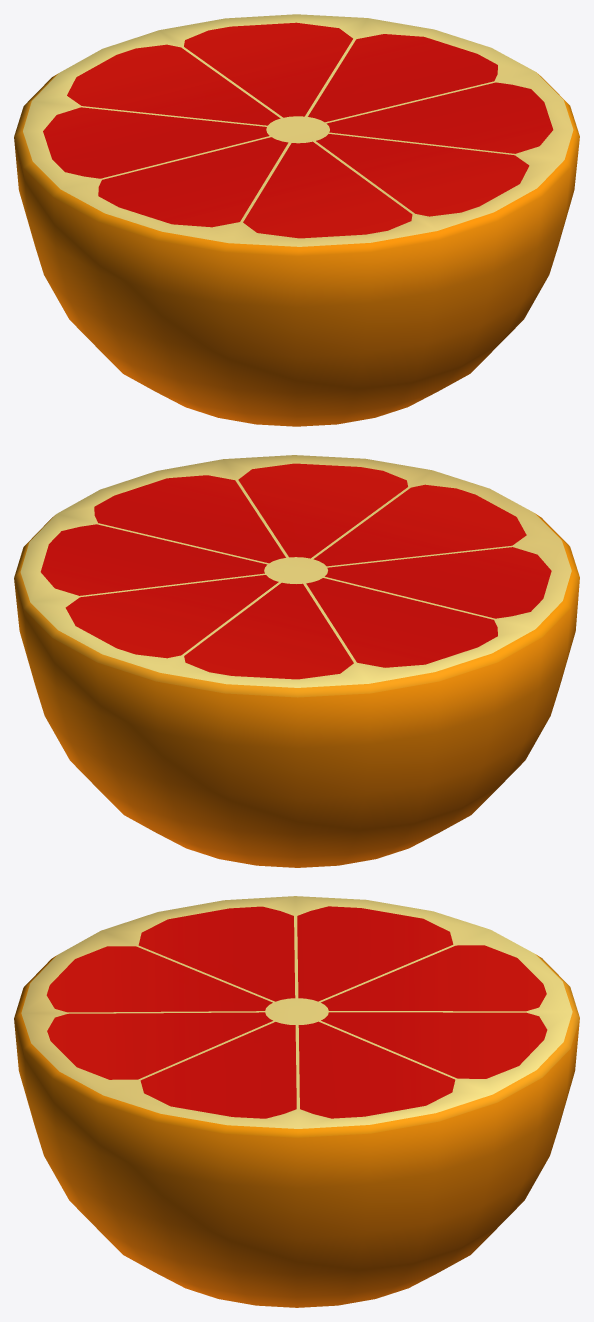
Rendered from Half_an_orange_red.fbx.
The picture shows the model from 3 angles, top to bottom: view 1: azimuth 30°, elevation 25°; view 2: azimuth 150°, elevation 25°; view 3: azimuth 270°, elevation 25°; orthographic projection.
Visible parts, largest first — view 1: Half_an_orange_red; view 2: Half_an_orange_red; view 3: Half_an_orange_red.
Part boxes in pixels (box(x1,y1,x2,y2)): Half_an_orange_red: box(14, 14, 579, 426); Half_an_orange_red: box(14, 455, 579, 867); Half_an_orange_red: box(14, 896, 579, 1307).
Bounding box in the file's own units: 169 × 84.3 × 169.
